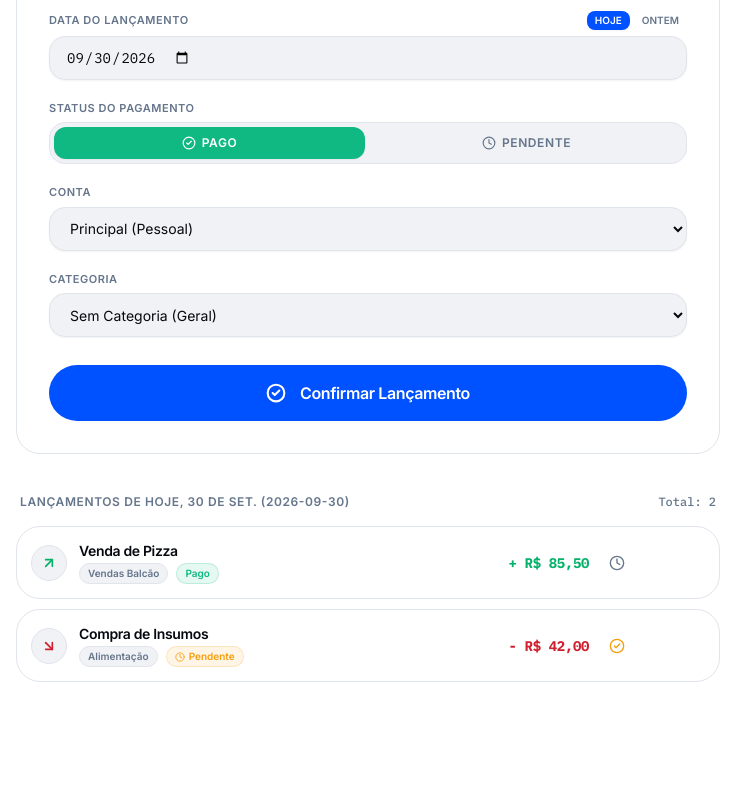
Test: LancamentosPage.jsx › Quick Status Toggle em Lançamentos › deve alternar status de Pendente para Pago e de Pago para Pendente com 1 clique
The width and height of the screenshot is (737, 795).
(page scrolled)
Expected: the text "Compra de Insumos" is shown, [79,625,208,642]
Click the button titled "Marcar como Pago".
click(617, 646)  # box [601,630,633,662]
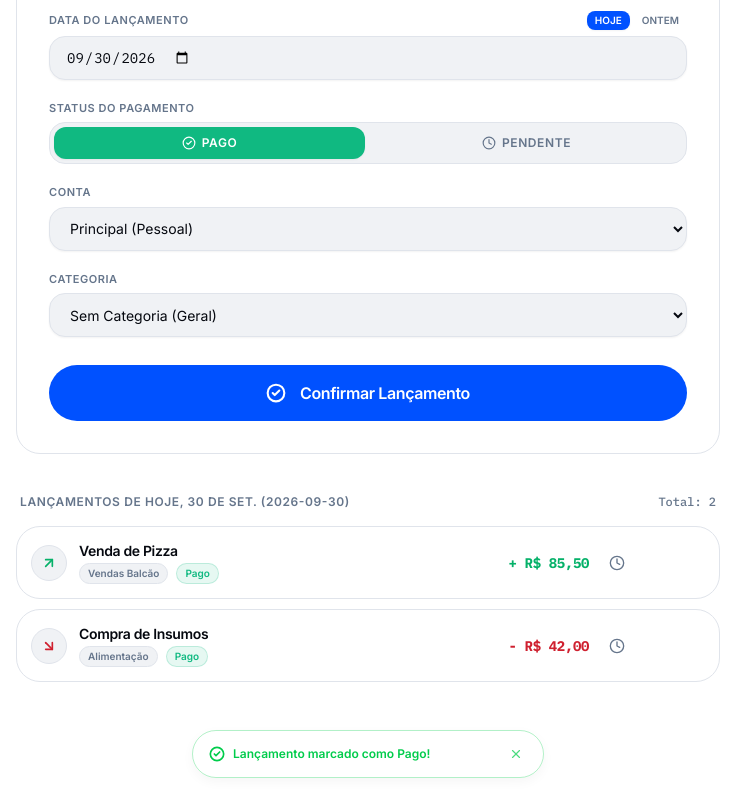
Expected: the text "Lançamento marcado como Pago!" is shown, [233,746,430,762]
